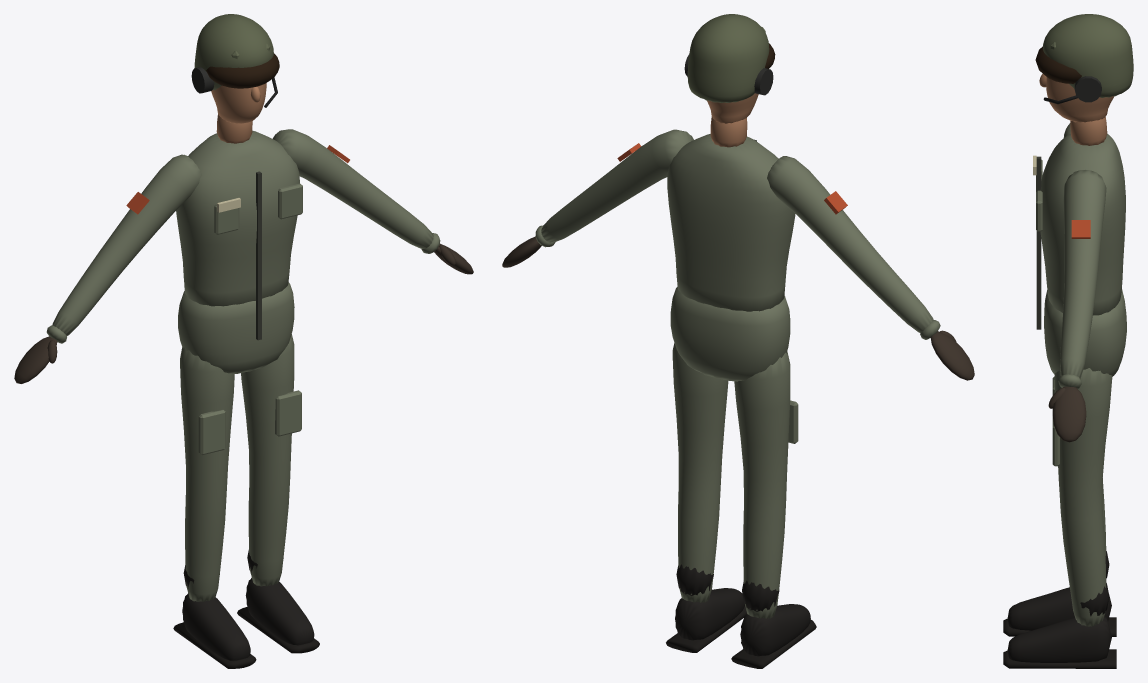
The model's file is lucas_ortiz.glb.
3 views of the same model, side by side, from view 1: azimuth 30°, elevation 25°; view 2: azimuth 150°, elevation 25°; view 3: azimuth 270°, elevation 25° (orthographic). The views are drawn at different scales.
Parts seen in each view (by area): view 1: lucas_ortiz; view 2: lucas_ortiz; view 3: lucas_ortiz.
Boxes of the visible parts, <box> form: lucas_ortiz: <box>14,14,473,668</box>; lucas_ortiz: <box>502,14,974,668</box>; lucas_ortiz: <box>1003,14,1133,668</box>.
Size of the model in its own units: 1.42 by 1.82 by 0.3407.
